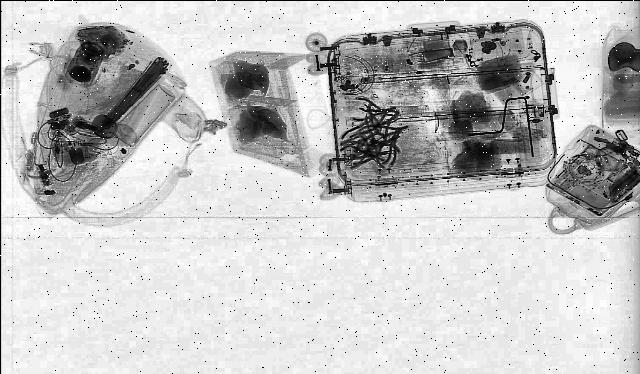Pliers: (350, 97, 400, 123)
